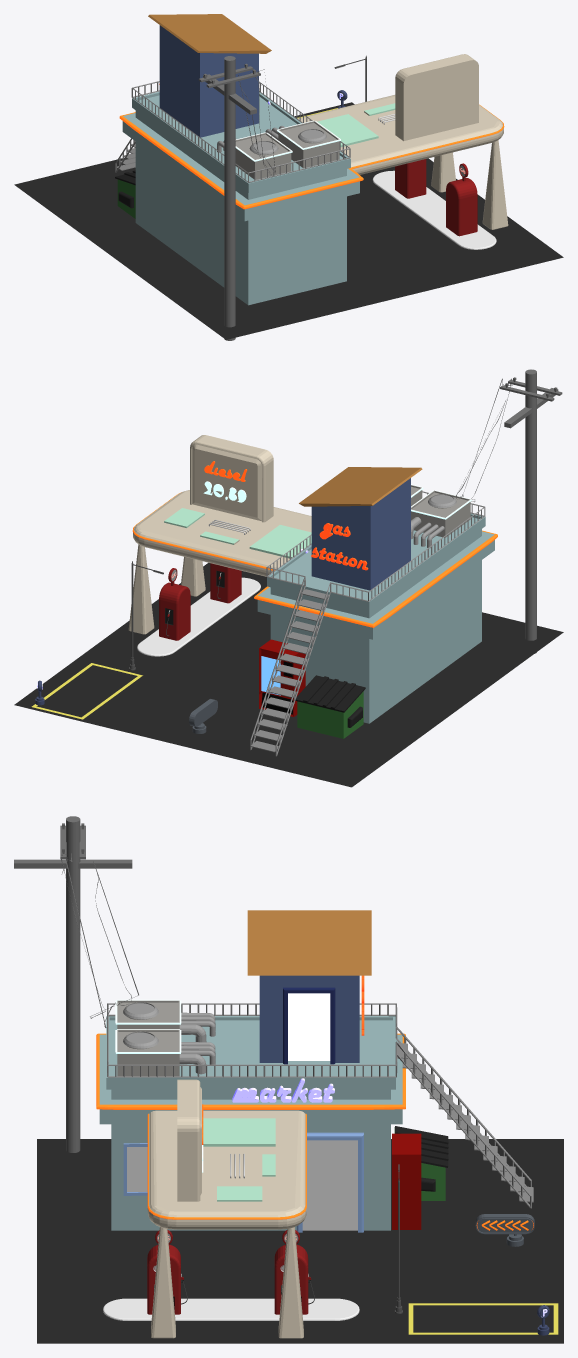
The model's file is gas_station.fbx.
3 renders of one model, top to bottom at view 1: azimuth 30°, elevation 25°; view 2: azimuth 150°, elevation 25°; view 3: azimuth 270°, elevation 25°, orthographic. The views are drawn at different scales.
Parts seen in each view (by area): view 1: market, Plane, gas_sign, shack, gas_pump, electricity_pole, air_conditioning, bin; view 2: Plane, market, gas_sign, shack, gas_pump, electricity_pole, bin, air_conditioning, automat, signpost; view 3: Plane, market, gas_sign, shack, electricity_pole, gas_pump, air_conditioning, automat, bin, signpost.
Part boxes in pixels (bbox=[...]): market: bbox=[115, 81, 363, 305]; Plane: bbox=[14, 102, 563, 339]; gas_sign: bbox=[297, 54, 508, 229]; shack: bbox=[148, 14, 271, 137]; gas_pump: bbox=[372, 159, 496, 249]; electricity_pole: bbox=[198, 56, 275, 340]; air_conditioning: bbox=[217, 120, 340, 179]; bin: bbox=[115, 170, 135, 218]; Plane: bbox=[14, 562, 563, 787]; market: bbox=[250, 491, 497, 756]; gas_sign: bbox=[128, 435, 311, 634]; shack: bbox=[299, 467, 422, 590]; gas_pump: bbox=[137, 563, 260, 656]; electricity_pole: bbox=[455, 369, 562, 653]; bin: bbox=[295, 675, 365, 738]; air_conditioning: bbox=[411, 484, 471, 548]; automat: bbox=[259, 639, 305, 716]; signpost: bbox=[189, 699, 217, 733]; Plane: bbox=[37, 1139, 563, 1343]; market: bbox=[96, 1003, 533, 1232]; gas_sign: bbox=[147, 1079, 306, 1338]; shack: bbox=[247, 910, 371, 1064]; electricity_pole: bbox=[14, 816, 138, 1152]; gas_pump: bbox=[103, 1230, 359, 1320]; air_conditioning: bbox=[115, 999, 215, 1076]; automat: bbox=[392, 1133, 421, 1229]; bin: bbox=[394, 1126, 448, 1200]; signpost: bbox=[475, 1214, 534, 1246].
Bounding box in the file's own units: 1433 × 1110 × 1591.
